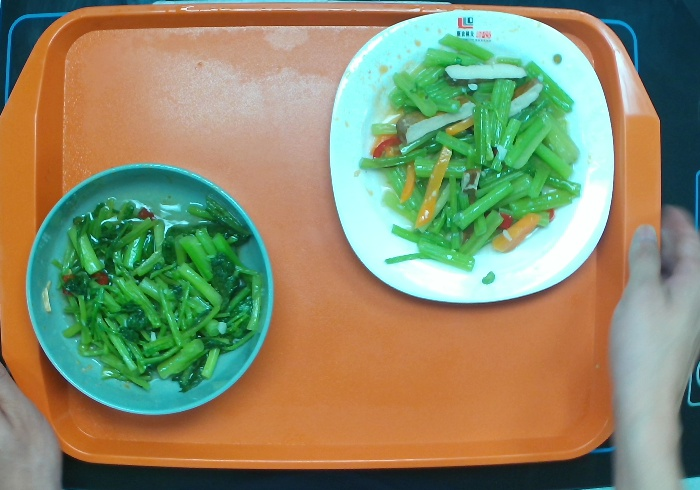ZNLD-Qing_Hua_Yuan_Wan: (24, 160, 273, 415)
ZNLD-Yuan_Jiao_Pan: (328, 8, 618, 305)
